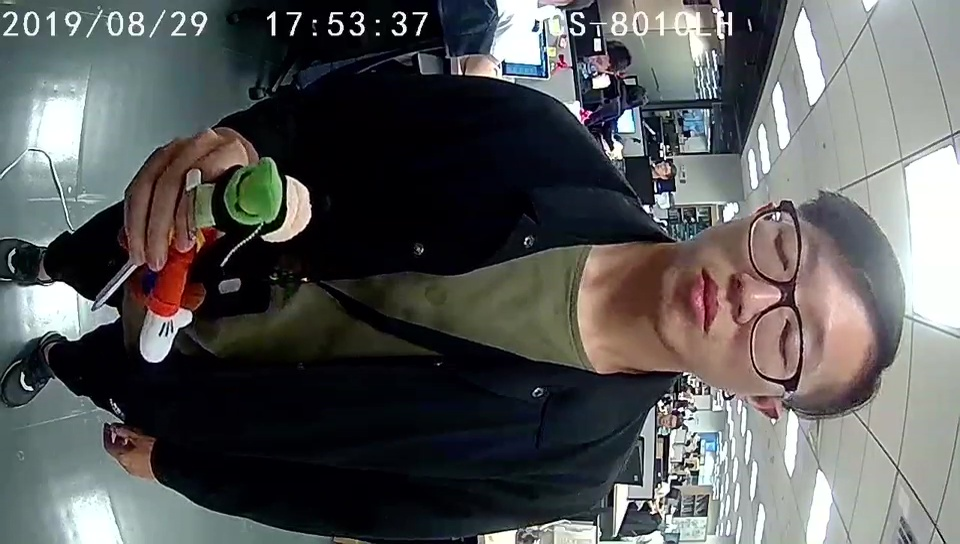goofy: (136, 155, 313, 368)
